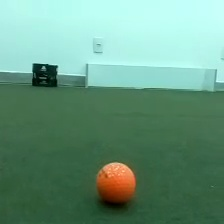ball: (93, 158, 138, 207)
goal: (82, 60, 218, 93)
robot: (30, 60, 59, 88)
